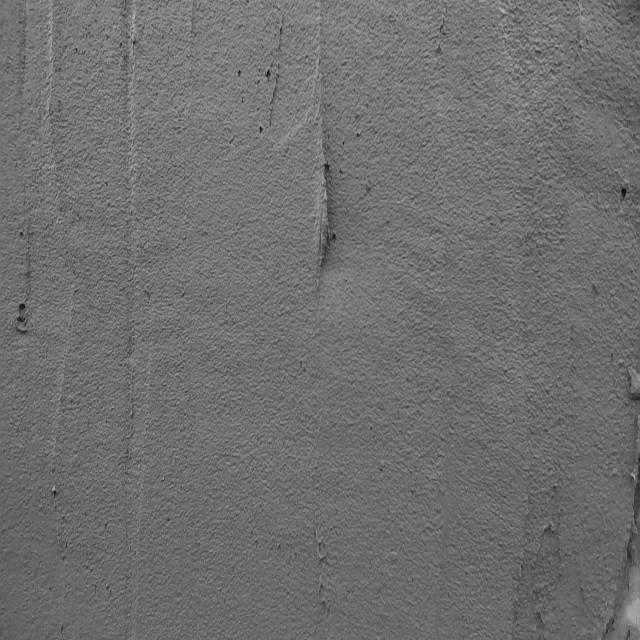trowels marks: (316, 9, 336, 338)
